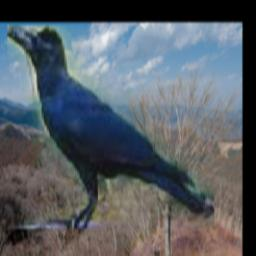Crow: (8, 26, 215, 230)
